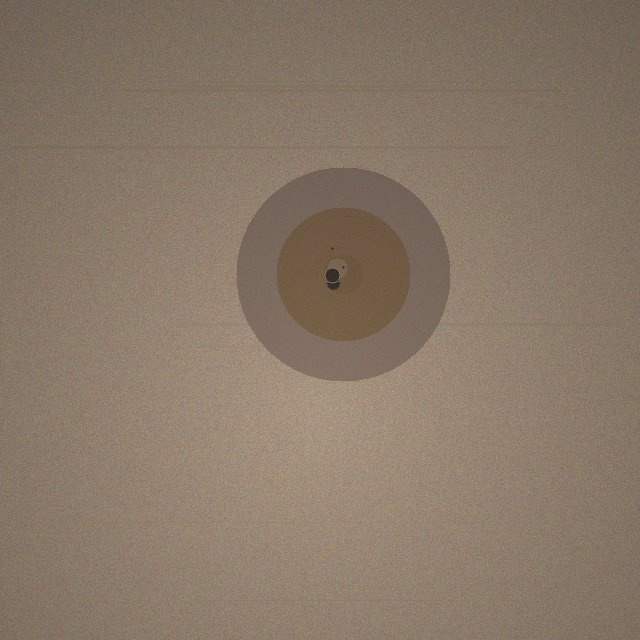shrinkage: (236, 167, 450, 381)
